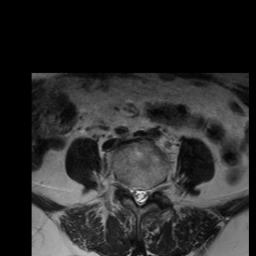CCS_stenosis: (136, 180, 143, 211)
LFS_stenosis: (150, 179, 157, 199)
LLS_normal: (143, 181, 150, 206)
RFS_normal: (122, 175, 130, 200)
RLS_normal: (130, 181, 136, 208)
